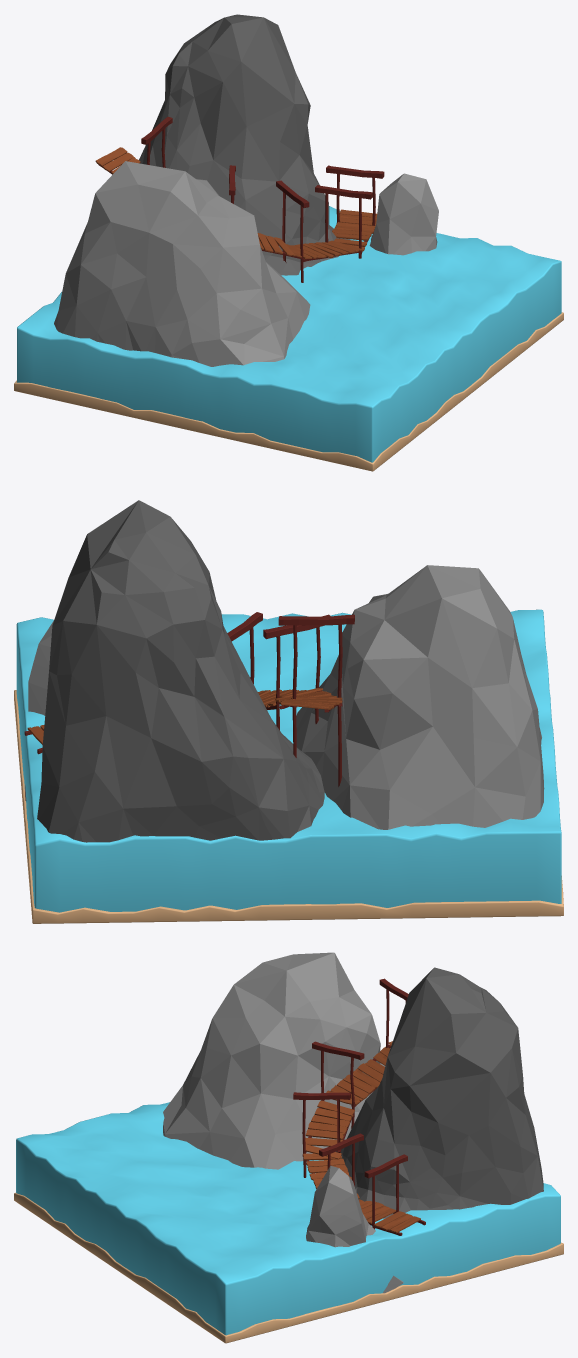
The model's file is sea scene_11.fbx.
The picture shows the model from 3 angles, top to bottom: view 1: azimuth 30°, elevation 25°; view 2: azimuth 150°, elevation 25°; view 3: azimuth 270°, elevation 25°; orthographic projection. The views are drawn at different scales.
Parts seen in each view (by area): view 1: water, mountain1.001, mountain1, sand, mountain1.002, bridgee, boards; view 2: mountain1, water, mountain1.001, sand, bridgee, boards, mountain1.002; view 3: water, mountain1, mountain1.001, sand, boards, mountain1.002, bridgee.
Boxes of the visible parts, x1,y1,x2,y2 form: water: [16, 206, 561, 462]; mountain1.001: [54, 161, 310, 366]; mountain1: [139, 14, 349, 275]; sand: [14, 312, 563, 471]; mountain1.002: [369, 173, 438, 255]; bridgee: [98, 116, 384, 282]; boards: [95, 147, 377, 258]; mountain1: [37, 500, 324, 842]; water: [16, 609, 561, 912]; mountain1.001: [296, 565, 544, 829]; sand: [14, 690, 563, 923]; bridgee: [24, 612, 354, 786]; boards: [27, 688, 342, 744]; mountain1.002: [25, 620, 53, 800]; water: [16, 1102, 560, 1335]; mountain1: [336, 967, 543, 1218]; mountain1.001: [163, 952, 385, 1169]; sand: [14, 1192, 563, 1343]; boards: [303, 1041, 420, 1233]; mountain1.002: [306, 1165, 403, 1293]; bridgee: [293, 978, 425, 1235].
Size of the model in its own units: 3782 by 2213 by 3782.
